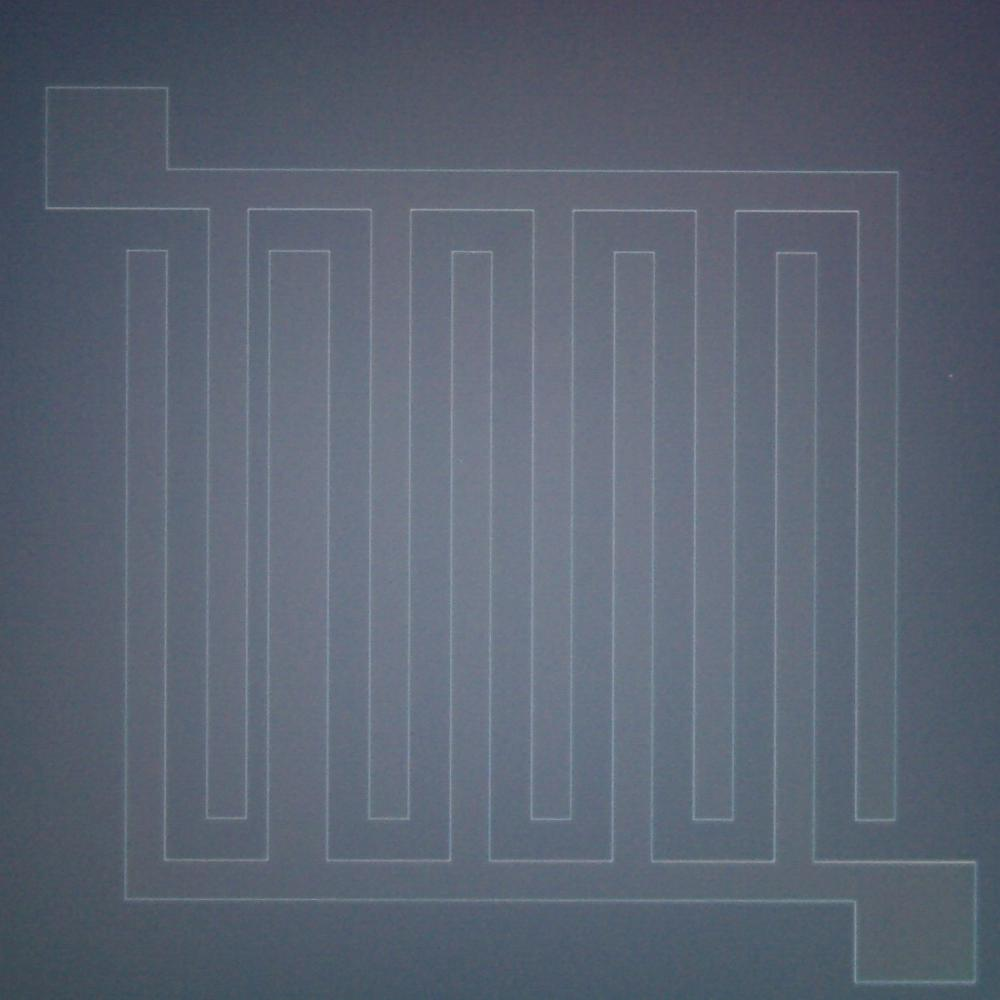dot: (948, 373, 953, 378)
